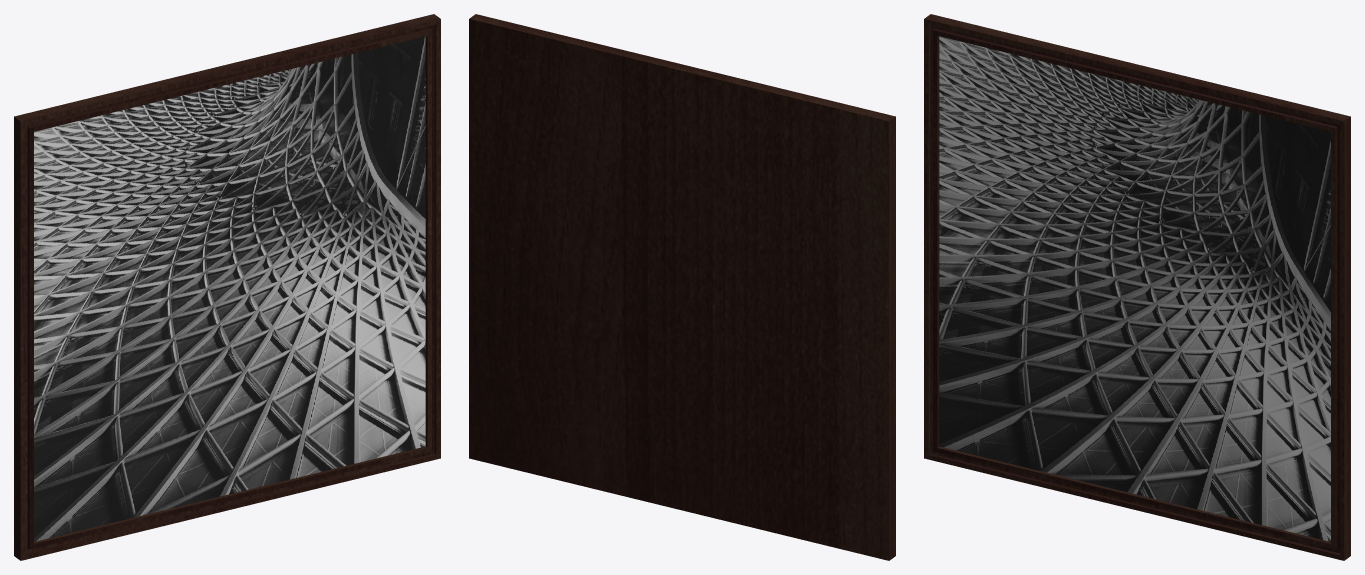
Rendered from painting.fbx.
3 renders of one model, left to right at view 1: azimuth 30°, elevation 25°; view 2: azimuth 150°, elevation 25°; view 3: azimuth 330°, elevation 25°, orthographic.
Visible parts, largest first — view 1: Cube.011, Cube.010; view 2: Cube.010; view 3: Cube.011, Cube.010.
Part boxes in pixels (x1,y1,x2,y2): Cube.011: (34, 36, 425, 541); Cube.010: (14, 14, 440, 560); Cube.010: (469, 14, 895, 560); Cube.011: (939, 36, 1330, 541); Cube.010: (924, 14, 1350, 560).
Bounding box in the file's own units: 149 × 149 × 4.09.
